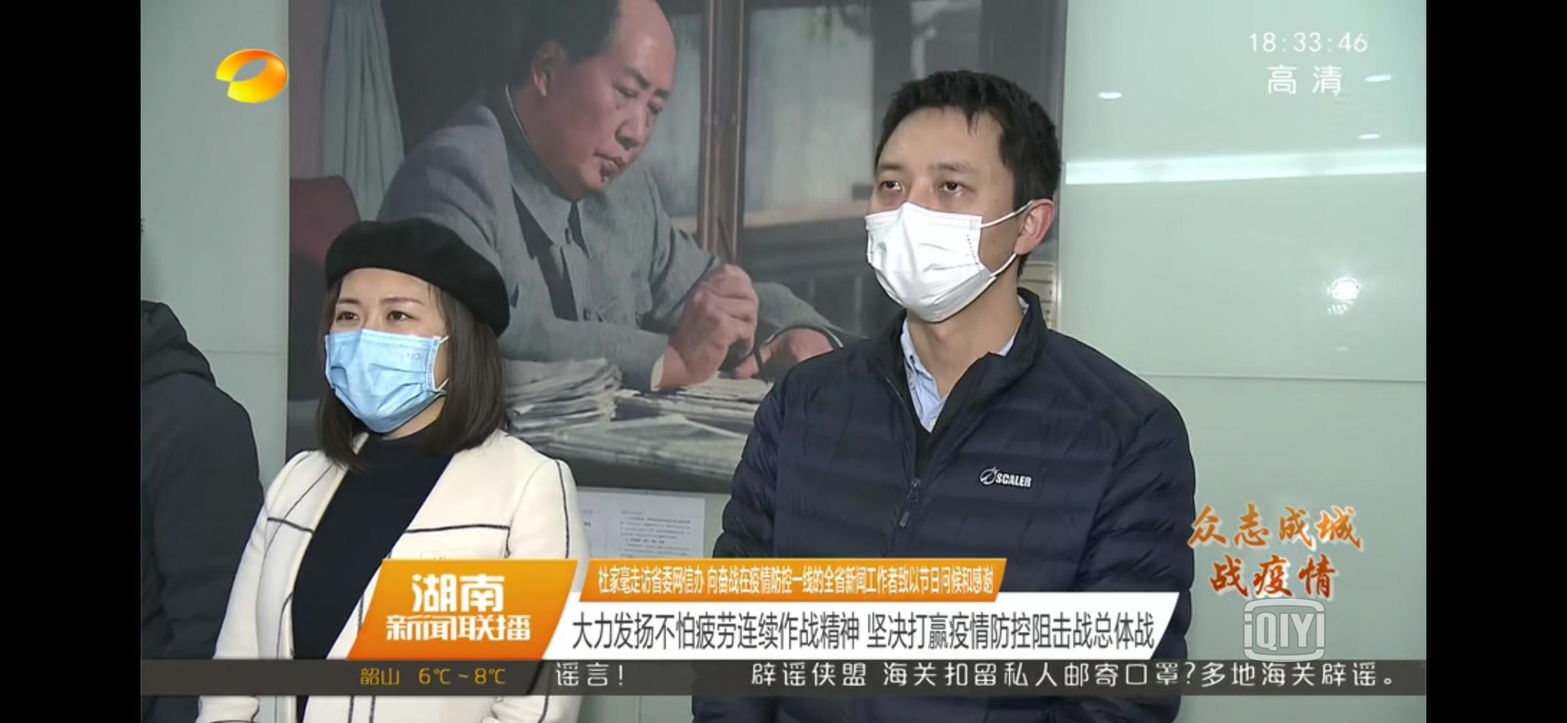NONE: (559, 29, 675, 194)
OK: (866, 137, 1025, 317), (324, 280, 445, 425)
